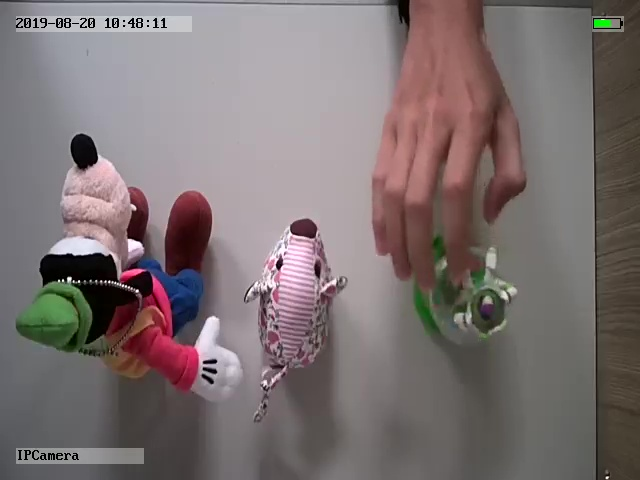buzz: (407, 231, 520, 353)
goofy: (13, 129, 244, 405)
pig: (245, 213, 350, 426)
